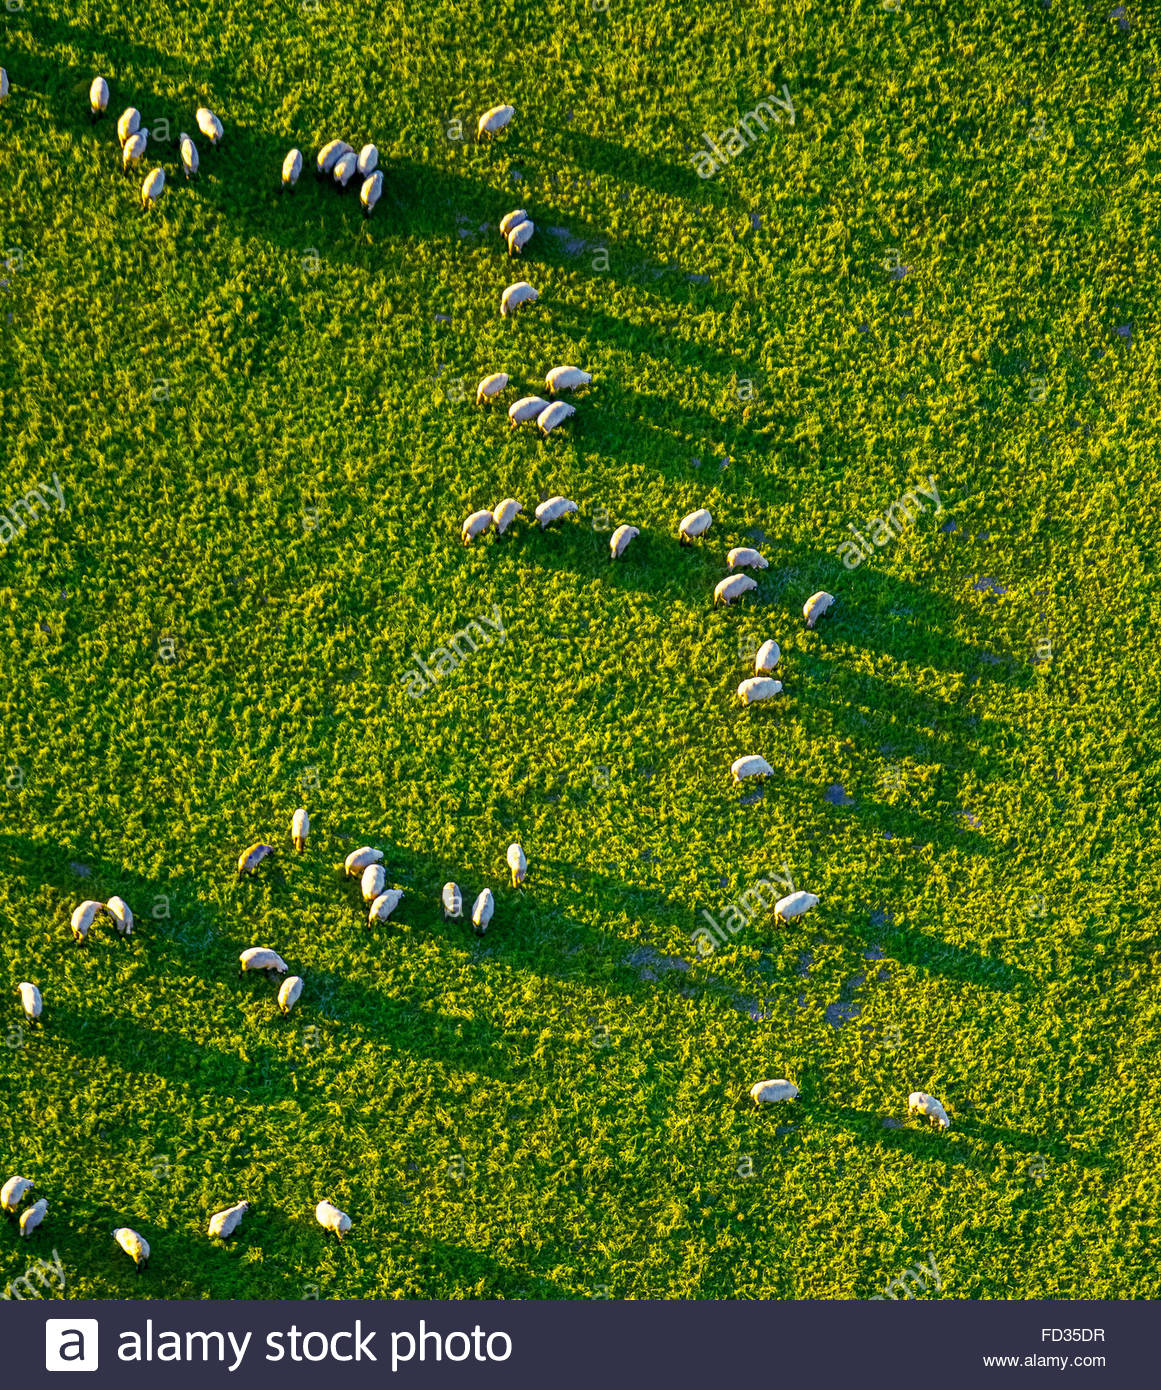sheep: (208, 1198, 253, 1240), (475, 100, 520, 140), (908, 1090, 951, 1130), (495, 281, 535, 322), (314, 1198, 354, 1240), (113, 1223, 148, 1270), (68, 900, 103, 948), (799, 586, 834, 629), (774, 890, 819, 924), (239, 946, 289, 976), (535, 494, 577, 530), (535, 397, 574, 435), (237, 840, 274, 879), (344, 844, 384, 879), (712, 573, 758, 603), (751, 1076, 799, 1105), (172, 132, 202, 177), (545, 365, 590, 395), (471, 885, 496, 937), (111, 100, 141, 144), (456, 508, 495, 541), (369, 887, 403, 926), (85, 69, 114, 114), (108, 894, 137, 939), (17, 1198, 48, 1239), (473, 368, 507, 405), (725, 545, 767, 573), (194, 103, 224, 142), (607, 526, 641, 561), (137, 164, 168, 201), (17, 977, 45, 1018), (728, 755, 773, 780), (740, 677, 782, 703), (441, 879, 464, 927), (505, 840, 530, 887), (314, 139, 351, 169), (359, 862, 385, 903), (276, 977, 304, 1015), (755, 636, 781, 674), (508, 221, 537, 255), (276, 147, 302, 184), (291, 807, 310, 857), (1, 1178, 31, 1210), (355, 174, 382, 209), (680, 508, 712, 536), (499, 496, 518, 535), (355, 143, 380, 173)
